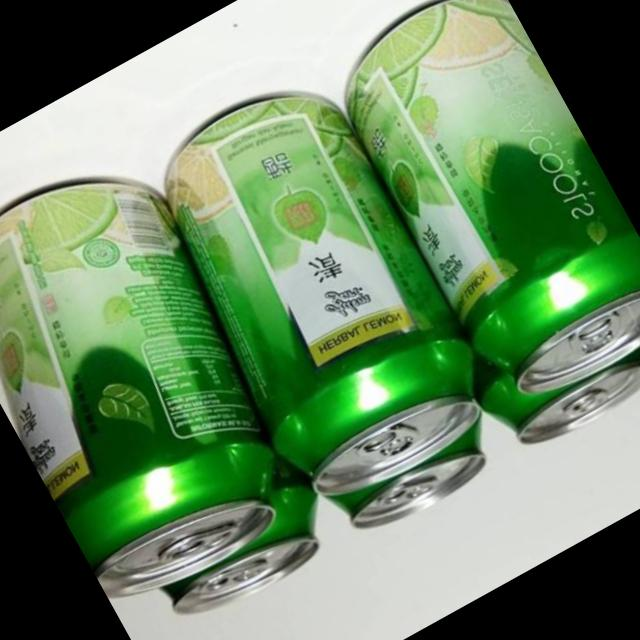ademsarikaleng: (120, 62, 512, 524), (0, 139, 332, 620), (315, 0, 640, 422)
